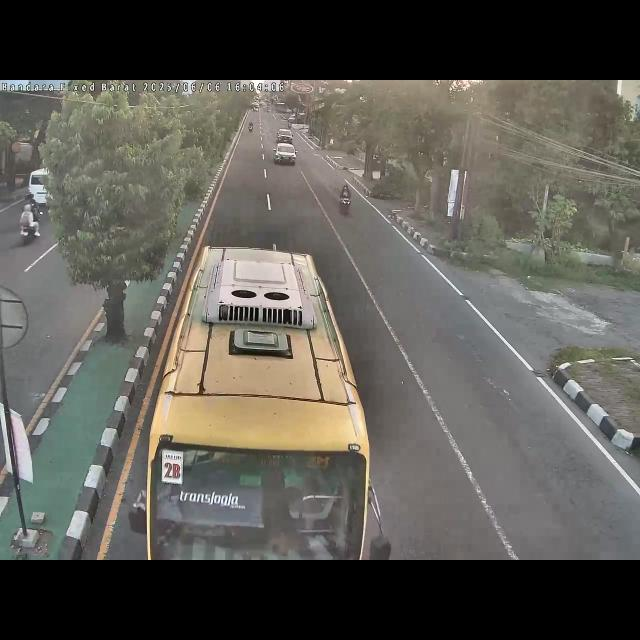Bis: (131, 248, 391, 560)
Mobil: (273, 142, 297, 166), (276, 127, 294, 143)
Motor: (339, 184, 351, 218), (248, 121, 254, 132)
